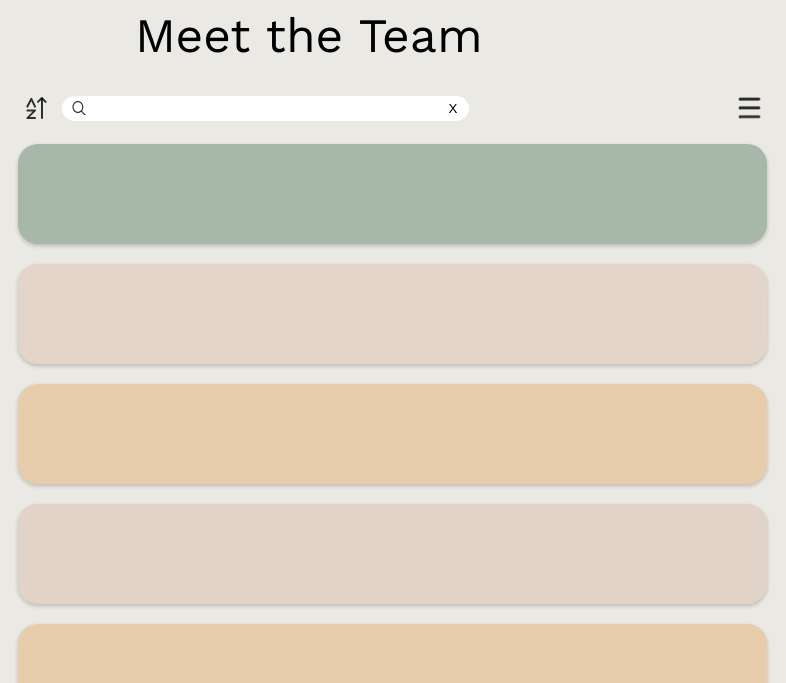
Test: if click sort button, last card should have the name "test-1 user-1"
Click the button with test id "sort" at (38,110), box x1=18 y1=96 x2=58 y2=124
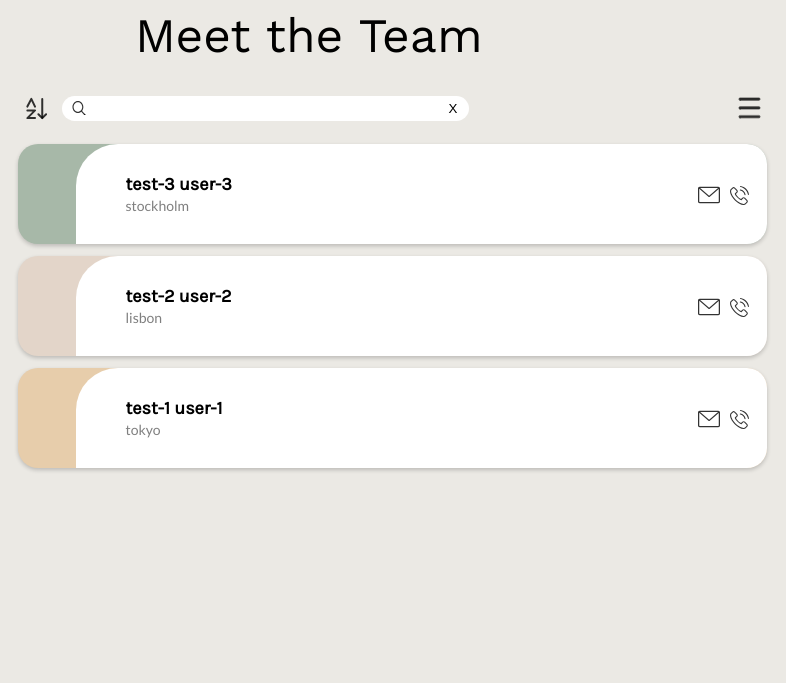
Result: the heading with test id "list-card-name-3" reads "test-1 user-1" at x1=126 y1=398 x2=223 y2=419
